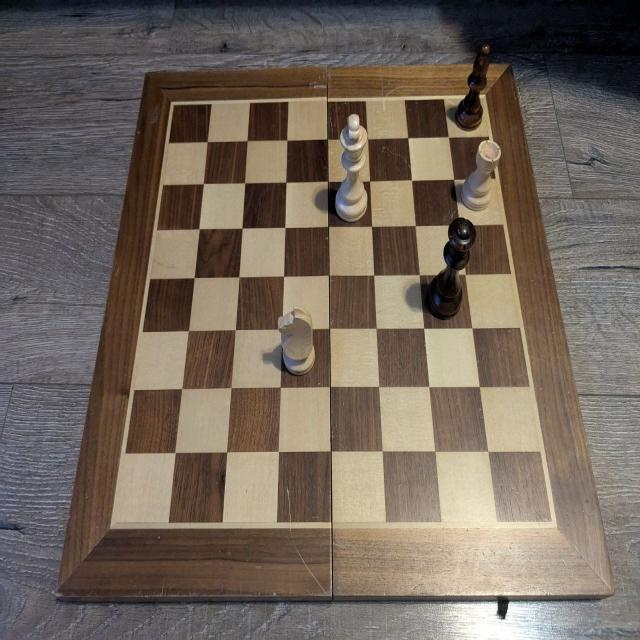black_bishop: (454, 41, 491, 132)
black_queen: (428, 216, 477, 322)
white_king: (335, 112, 370, 224)
white_knight: (279, 306, 317, 378)
white_rook: (461, 139, 501, 213)
